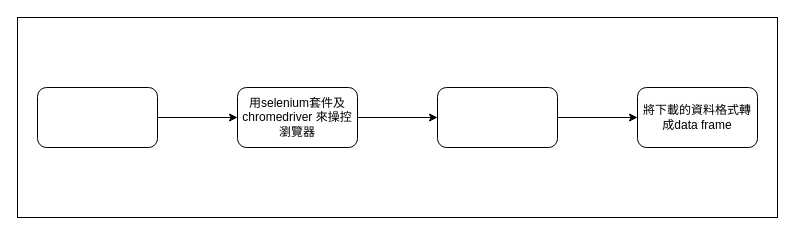
The diagram is 795 pixels wide and 235 high, and some of its shapes have lost their labels. The shapes that lost their labels are listed below. From the top down, each one's box as (x1, y1, x2, y2) in pixels, then its label:
(36, 86, 158, 148): 進入美國勞工部網站找每週初領失業救濟金的歷史資料
(436, 86, 558, 148): 選取要下載的資料日期區間及檔案格式後，點擊下載
